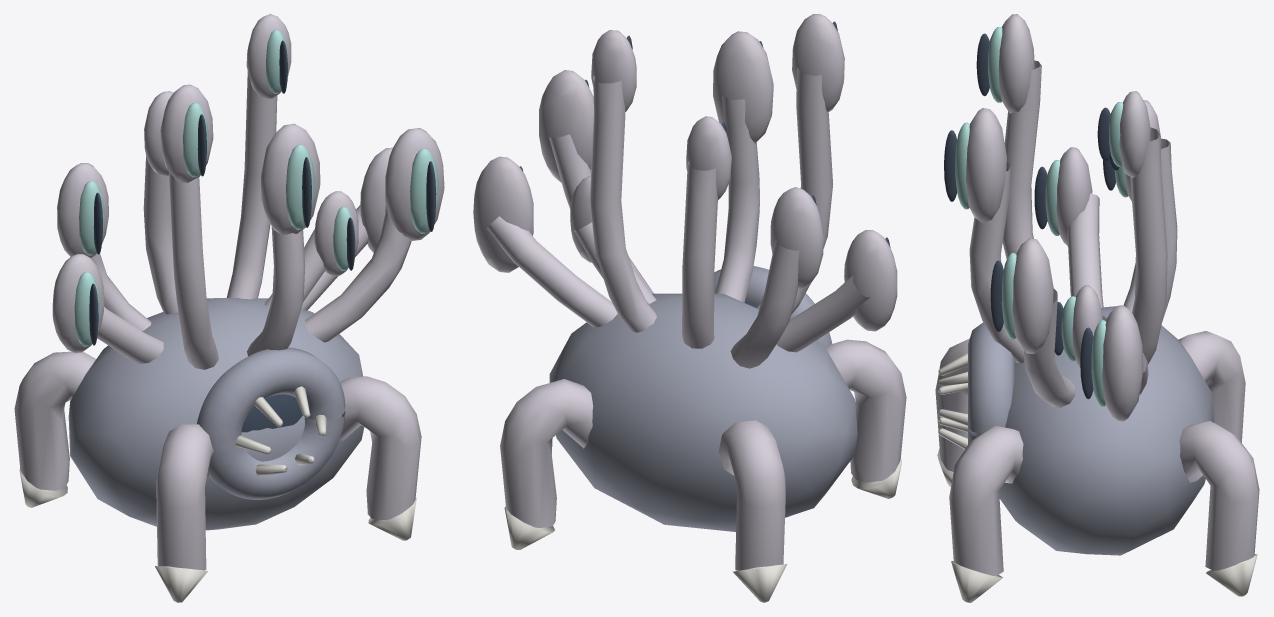
The model's file is bio_eye_orchard_05_far.glb.
The picture shows the model from 3 angles, left to right: view 1: azimuth 30°, elevation 25°; view 2: azimuth 150°, elevation 25°; view 3: azimuth 270°, elevation 25°; orthographic projection. The views are drawn at different scales.
Parts seen in each view (by area): view 1: Rooted muscular caudex, Raised oral lip, Asymmetric ocular branch.007, Asymmetric ocular branch.005, Crooked support.003, Asymmetric ocular branch.003, Asymmetric ocular branch.002, Crooked support.001, Crooked support.002, Asymmetric ocular branch.006, Asymmetric ocular branch.004, Asymmetric ocular branch.001 (+16 smaller); view 2: Rooted muscular caudex, Asymmetric ocular branch.003, Asymmetric ocular branch.002, Asymmetric ocular branch.008, Crooked support, Asymmetric ocular branch.006, Asymmetric ocular branch.007, Asymmetric ocular branch.001, Crooked support.001, Crooked support.002, Asymmetric ocular branch.004, Asymmetric ocular branch.005 (+5 smaller); view 3: Rooted muscular caudex, Asymmetric ocular branch.003, Crooked support, Crooked support.003, Asymmetric ocular branch.002, Asymmetric ocular branch.007, Asymmetric ocular branch.005, Asymmetric ocular branch.004, Raised oral lip, Asymmetric ocular branch.008, Crooked support.001, Crooked support.002 (+18 smaller).
Boxes of the visible parts, box(x1,y1,x2,y2) form: Rooted muscular caudex: box(68, 298, 364, 530); Raised oral lip: box(197, 347, 345, 499); Asymmetric ocular branch.007: box(160, 84, 218, 369); Asymmetric ocular branch.005: box(305, 128, 444, 342); Crooked support.003: box(335, 376, 421, 520); Asymmetric ocular branch.003: box(226, 14, 291, 299); Asymmetric ocular branch.002: box(247, 123, 320, 356); Crooked support.001: box(14, 351, 95, 490); Crooked support.002: box(156, 424, 213, 570); Asymmetric ocular branch.006: box(143, 91, 178, 314); Asymmetric ocular branch.004: box(52, 254, 163, 363); Asymmetric ocular branch.001: box(57, 163, 151, 330); Rooted muscular caudex: box(549, 293, 857, 531); Asymmetric ocular branch.003: box(590, 30, 656, 332); Asymmetric ocular branch.002: box(713, 31, 773, 302); Asymmetric ocular branch.008: box(473, 156, 617, 327); Crooked support: box(500, 379, 593, 527); Asymmetric ocular branch.006: box(682, 116, 731, 348); Asymmetric ocular branch.007: box(756, 14, 844, 314); Asymmetric ocular branch.001: box(730, 187, 823, 368); Crooked support.001: box(718, 420, 785, 570); Crooked support.002: box(826, 339, 906, 482); Asymmetric ocular branch.004: box(776, 230, 897, 352); Asymmetric ocular branch.005: box(539, 70, 653, 293); Rooted muscular caudex: box(999, 306, 1214, 555); Asymmetric ocular branch.003: box(1119, 91, 1167, 364); Crooked support: box(1179, 421, 1259, 570); Crooked support.003: box(949, 426, 1023, 575); Asymmetric ocular branch.002: box(966, 108, 1024, 363); Asymmetric ocular branch.007: box(998, 14, 1041, 259); Asymmetric ocular branch.005: box(1012, 238, 1075, 407); Asymmetric ocular branch.004: box(1056, 147, 1103, 307); Raised oral lip: box(968, 322, 1015, 444); Asymmetric ocular branch.008: box(1102, 305, 1148, 421); Crooked support.001: box(1179, 331, 1245, 442); Crooked support.002: box(935, 338, 969, 471).
Size of the model in its own units: 1.71 by 2.05 by 1.23.
